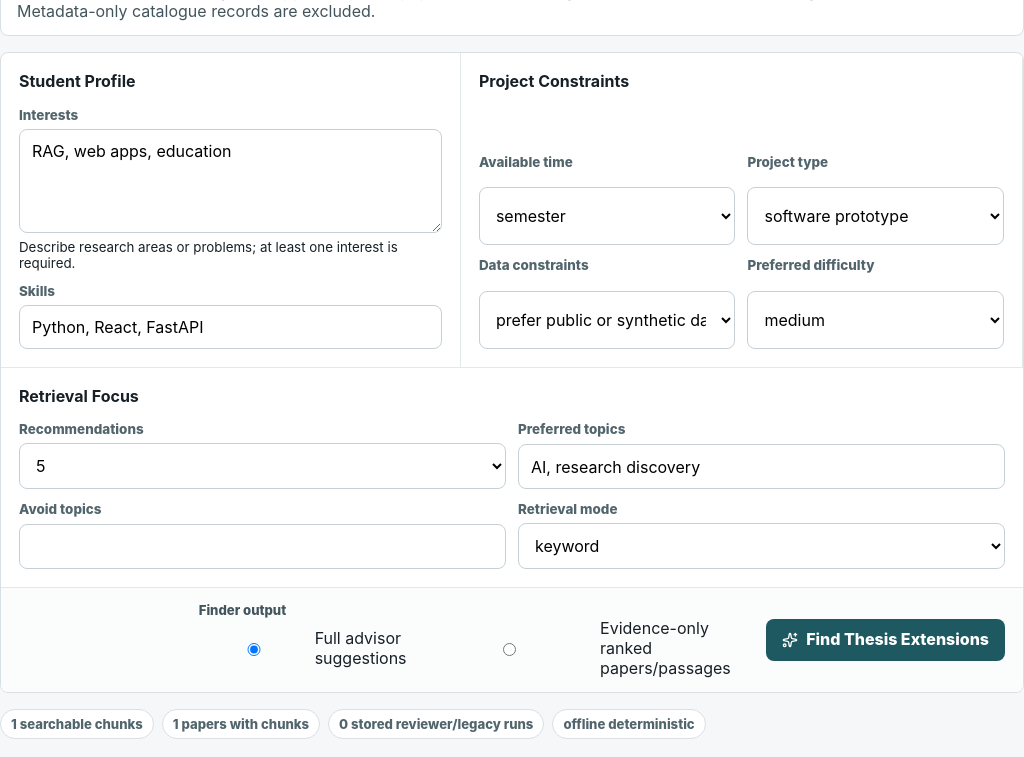
Test: evidence and responsible-AI interfaces › echoes a transient profile and exposes the evidence-only finder baseline
(page scrolled)
Click the radio button labelled "Evidence-only ranked papers/passages" at (509, 650), box x1=428 y1=643 x2=591 y2=656
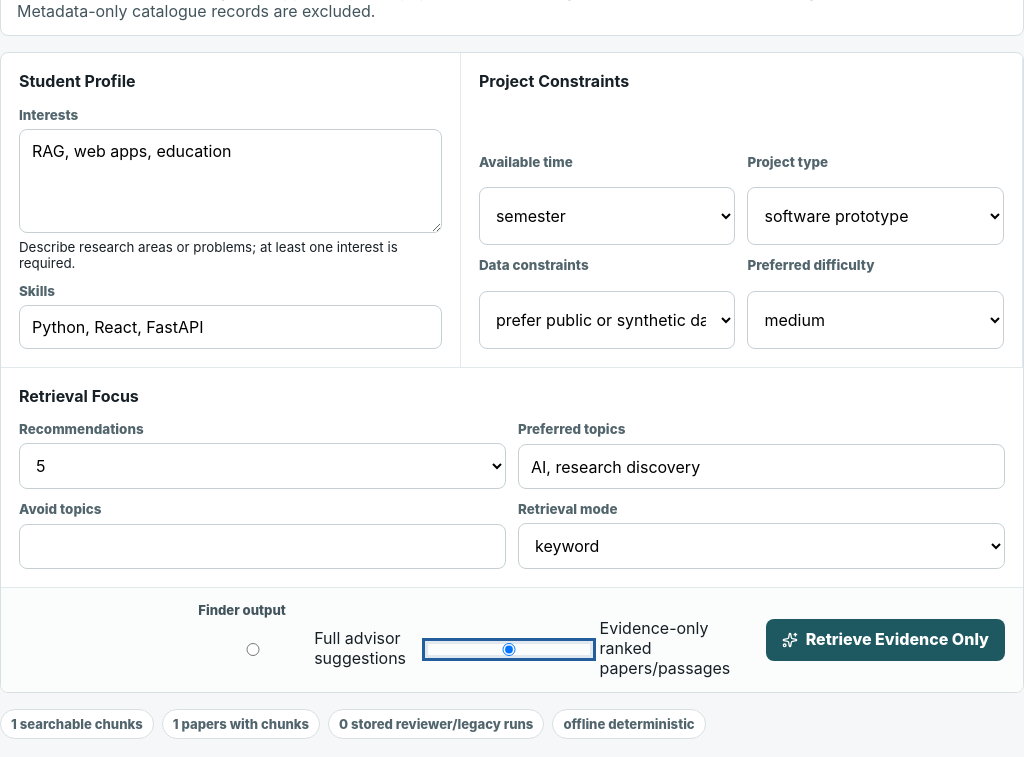
Click the button "Retrieve Evidence Only" at (885, 640), box x1=766 y1=619 x2=1005 y2=661
(page scrolled)
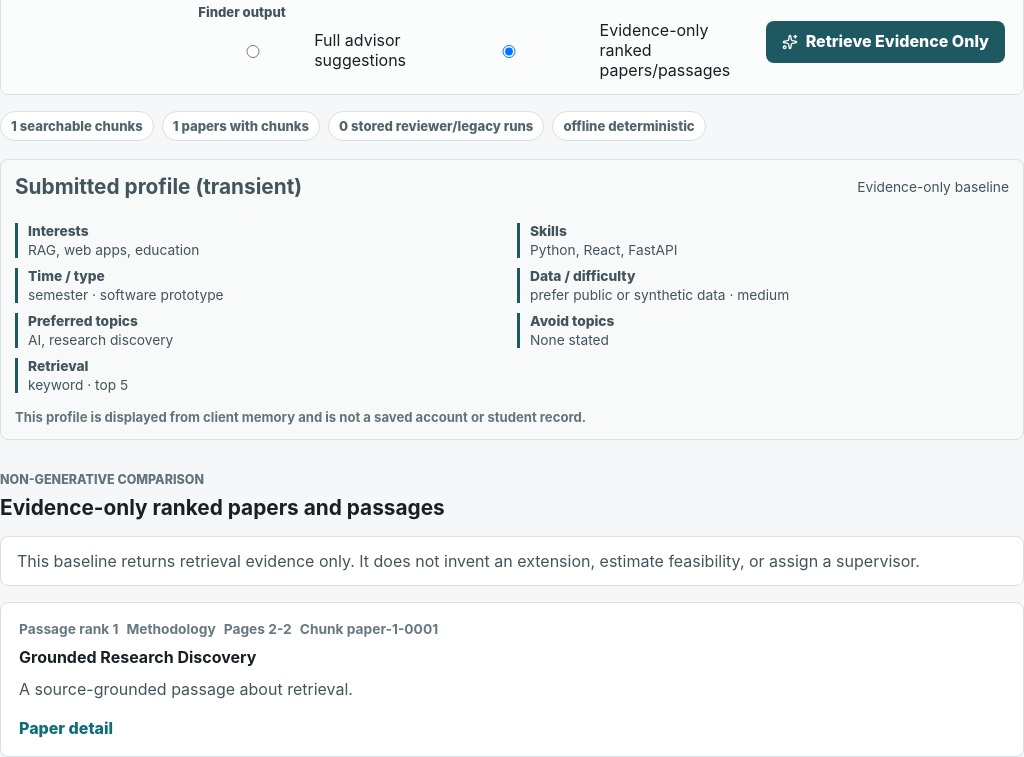
Expected: the heading "Submitted profile (transient)" is shown, x1=15 y1=174 x2=302 y2=199
Expected: the heading "Evidence-only ranked papers and passages" is shown, x1=0 y1=495 x2=445 y2=520
Expected: the text "Chunk paper-1-0001" is shown, x1=300 y1=621 x2=438 y2=637
